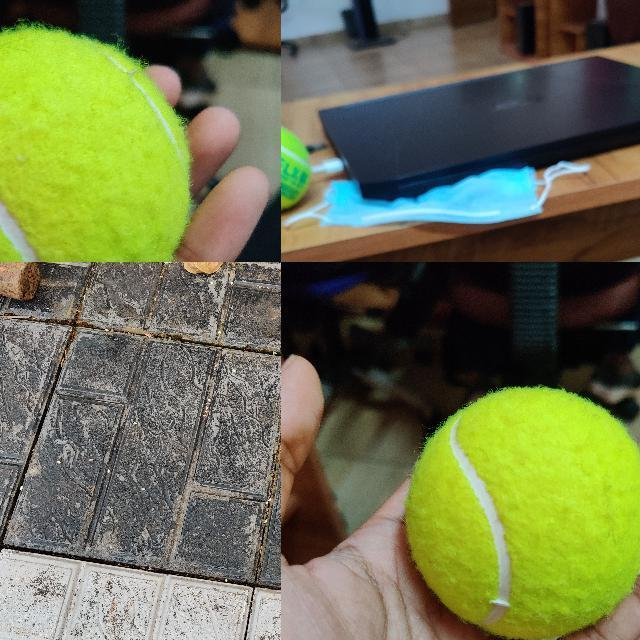tennis-ball: (405, 387, 639, 639), (0, 29, 189, 261), (281, 122, 311, 212)
